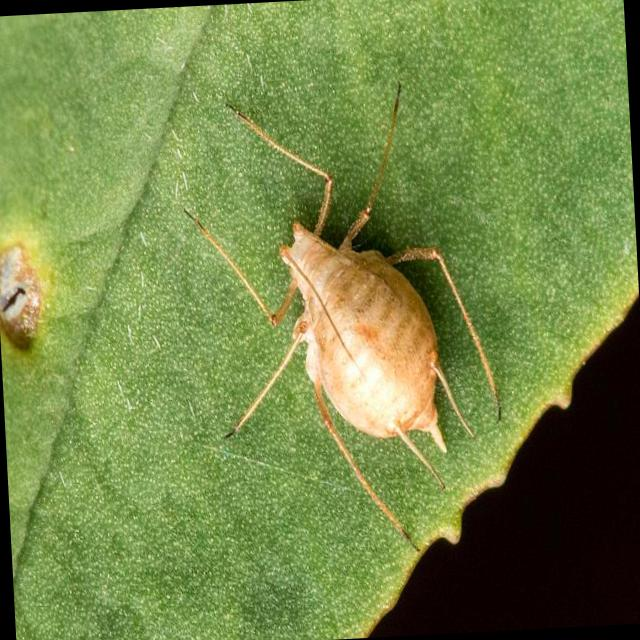Aphids: (170, 84, 500, 542)
